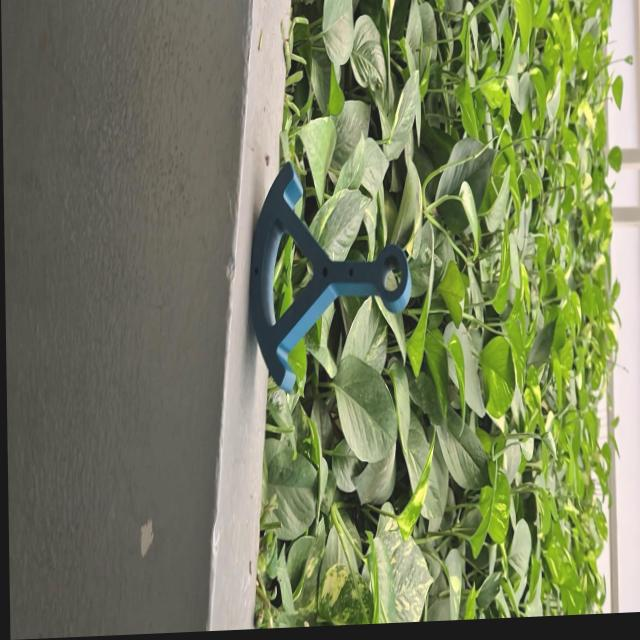haptic: (245, 151, 414, 399)
